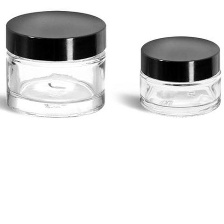bottle: (3, 6, 109, 119), (134, 32, 224, 120)
